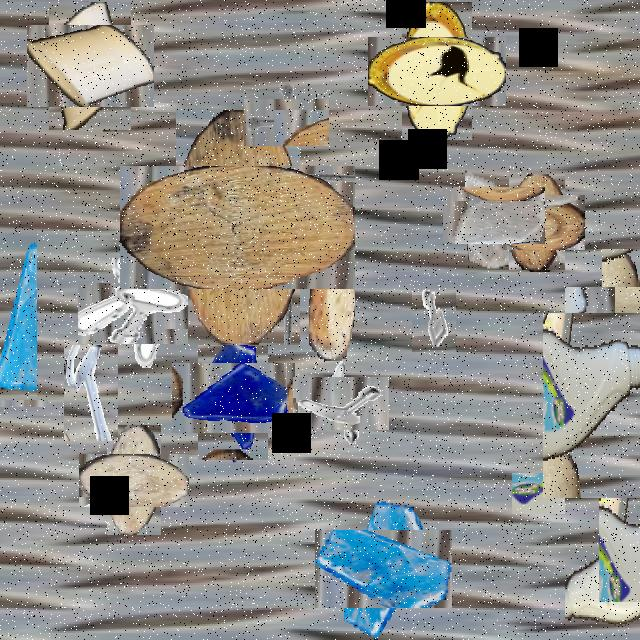glass: (329, 515, 437, 623), (185, 349, 282, 447), (454, 175, 534, 255), (0, 231, 37, 398)
metal: (239, 188, 325, 274), (90, 270, 176, 356), (304, 366, 378, 441), (64, 345, 118, 441), (254, 89, 320, 156), (412, 279, 456, 357), (0, 379, 28, 427)
plastic: (543, 313, 640, 498), (565, 457, 640, 638), (555, 429, 640, 558), (38, 13, 142, 118), (385, 19, 489, 123)
wood: (148, 138, 328, 317), (93, 439, 175, 521), (499, 184, 575, 260), (309, 242, 355, 359), (583, 268, 640, 344)
